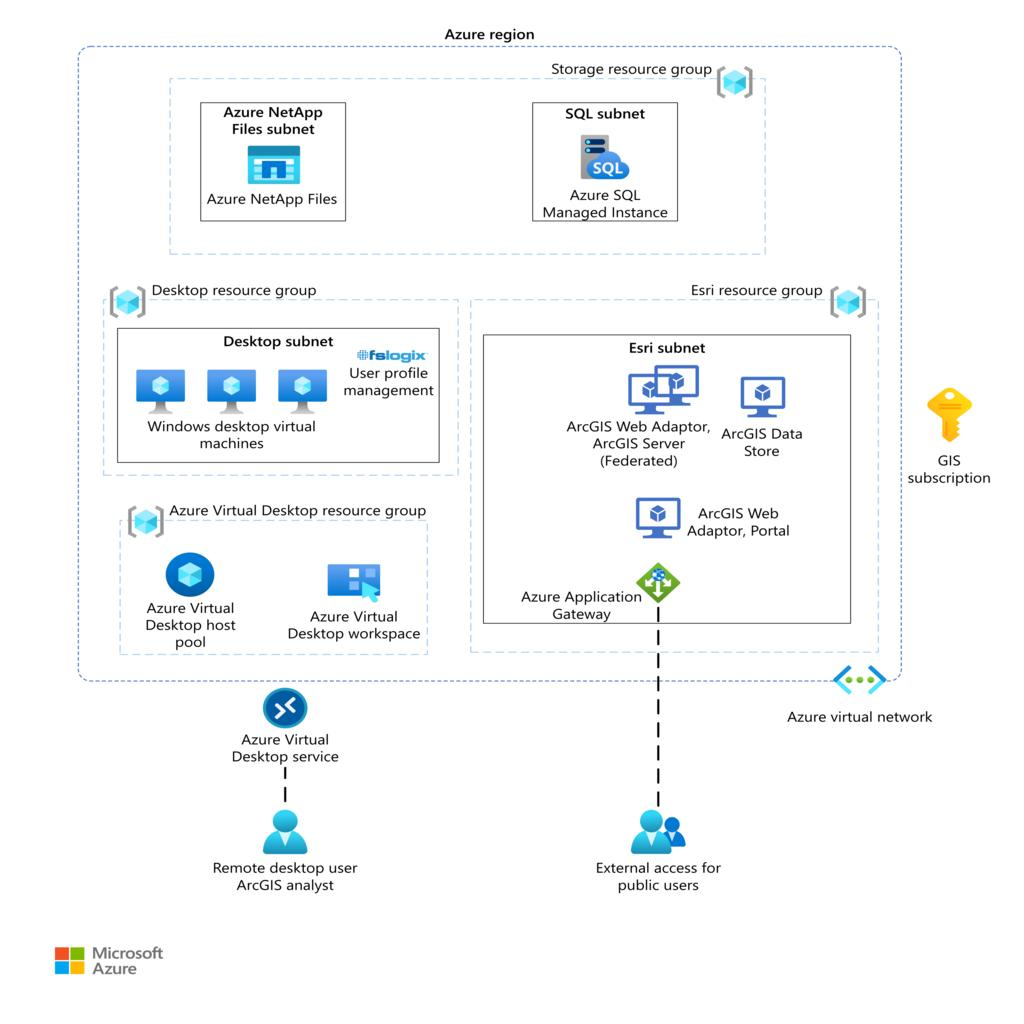actor: (622, 806, 694, 857), (259, 806, 310, 857)
api_gateway: (632, 556, 683, 612)
compute: (622, 356, 704, 412), (159, 548, 220, 609), (323, 548, 384, 609), (254, 676, 315, 737), (632, 489, 683, 545), (274, 358, 328, 410), (133, 358, 186, 410), (205, 358, 258, 410)
data_flow: (655, 614, 660, 820), (282, 768, 287, 809), (282, 635, 287, 676)
database_storage: (240, 130, 307, 198), (574, 130, 634, 198), (734, 358, 790, 420)
trust_boundary: (78, 45, 901, 680), (469, 297, 879, 655), (481, 330, 850, 622), (169, 76, 765, 256), (102, 298, 458, 476), (116, 325, 440, 463), (120, 507, 427, 650), (530, 105, 678, 223), (200, 105, 347, 223)
